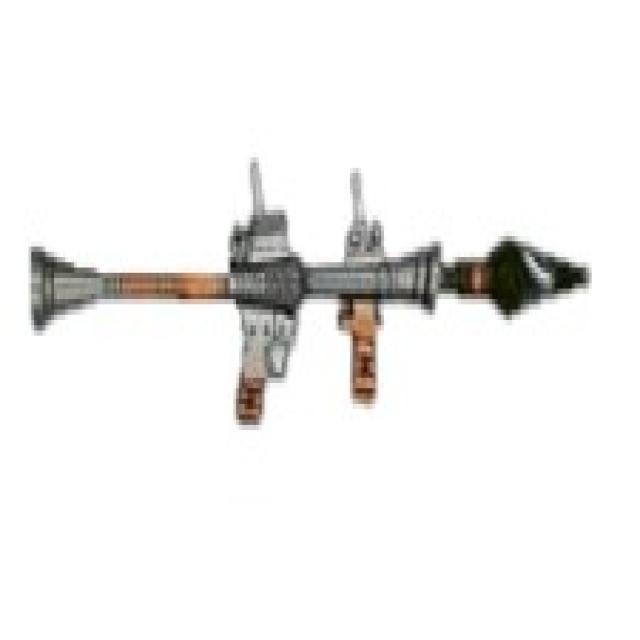bazooka: (20, 150, 597, 441)
